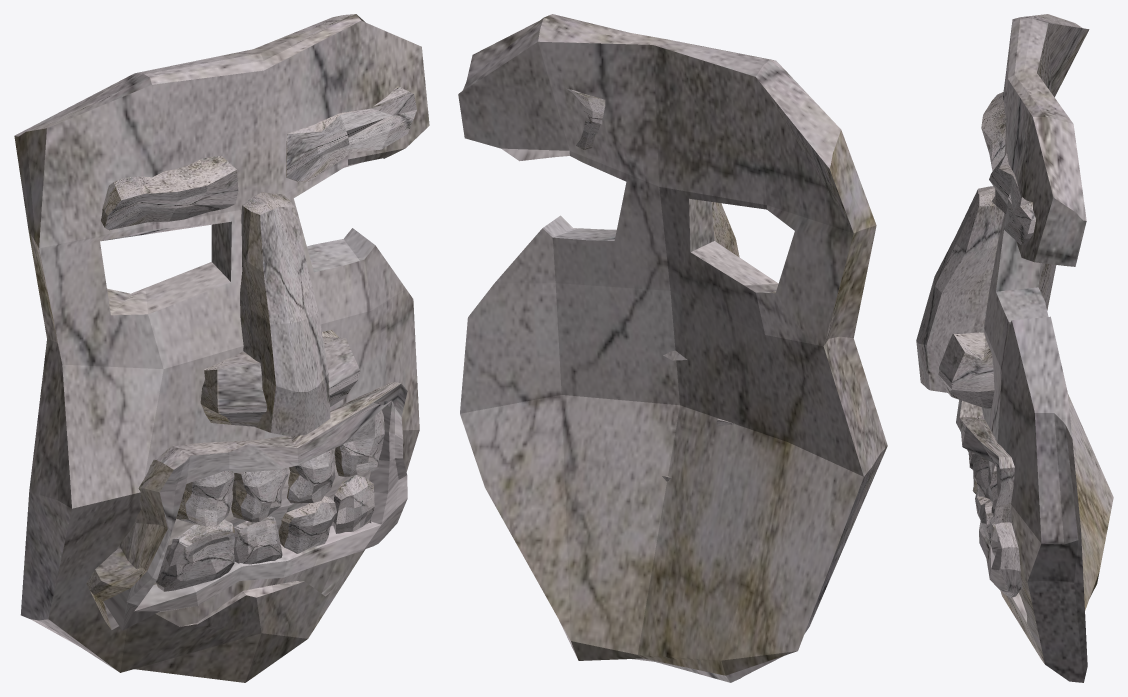
The model's file is stone.glb.
3 renders of one model, left to right at view 1: azimuth 30°, elevation 25°; view 2: azimuth 150°, elevation 25°; view 3: azimuth 270°, elevation 25°, orthographic. The views are drawn at different scales.
Parts seen in each view (by area): view 1: mascara_0, boca_5, nariz1_1, ceja der_3, ceja izq_4, nariz2_2, diente.003_10, diente_7, diente.007_6, diente.004_11, diente.002_9, diente.006_13 (+2 smaller); view 2: mascara_0, ceja izq_4, nariz1_1; view 3: mascara_0, nariz1_1, boca_5, nariz2_2, ceja izq_4, ceja der_3, diente.001_8, diente.004_11, diente.002_9.
Part boxes in pixels (x1,y1,x2,y2): mascara_0: [14, 14, 429, 682]; boca_5: [86, 382, 407, 630]; nariz1_1: [240, 192, 330, 435]; ceja der_3: [101, 156, 238, 230]; ceja izq_4: [286, 86, 416, 181]; nariz2_2: [200, 329, 360, 426]; diente.003_10: [156, 519, 234, 591]; diente_7: [231, 468, 288, 522]; diente.007_6: [176, 471, 234, 526]; diente.004_11: [278, 496, 336, 553]; diente.002_9: [334, 410, 384, 476]; diente.006_13: [332, 475, 374, 533]; mascara_0: [458, 14, 887, 682]; ceja izq_4: [567, 89, 605, 149]; nariz1_1: [663, 202, 739, 360]; mascara_0: [981, 14, 1113, 682]; nariz1_1: [916, 186, 1004, 392]; boca_5: [956, 399, 1022, 597]; nariz2_2: [938, 332, 994, 408]; ceja izq_4: [989, 153, 1035, 245]; ceja der_3: [981, 92, 1006, 171]; diente.001_8: [973, 453, 989, 498]; diente.004_11: [977, 494, 992, 546]; diente.002_9: [988, 461, 997, 516].
Bounding box in the file's own units: 10.12 × 15.47 × 4.65.
Materials: 5 (5 with a texture image).
